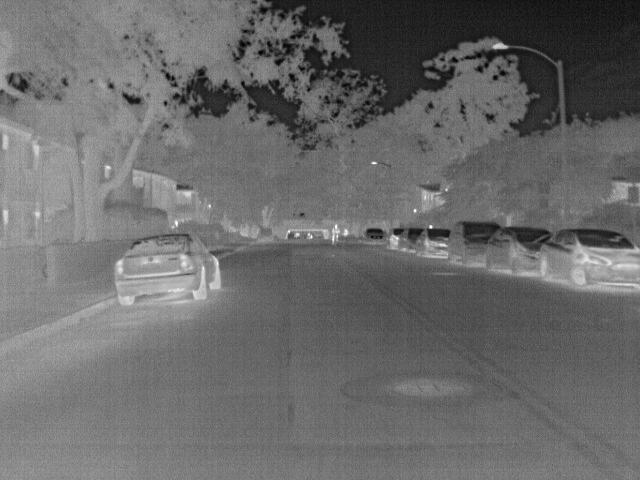car: (113, 229, 224, 304), (537, 230, 640, 292), (484, 227, 555, 277), (448, 222, 501, 266), (411, 226, 450, 258), (361, 224, 388, 246), (398, 227, 420, 253), (388, 224, 406, 248)
person: (329, 222, 343, 247), (338, 226, 351, 237)
